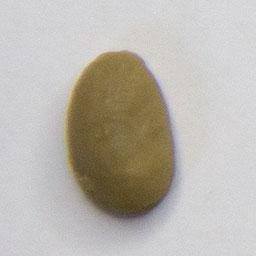premium: (61, 46, 181, 218)
